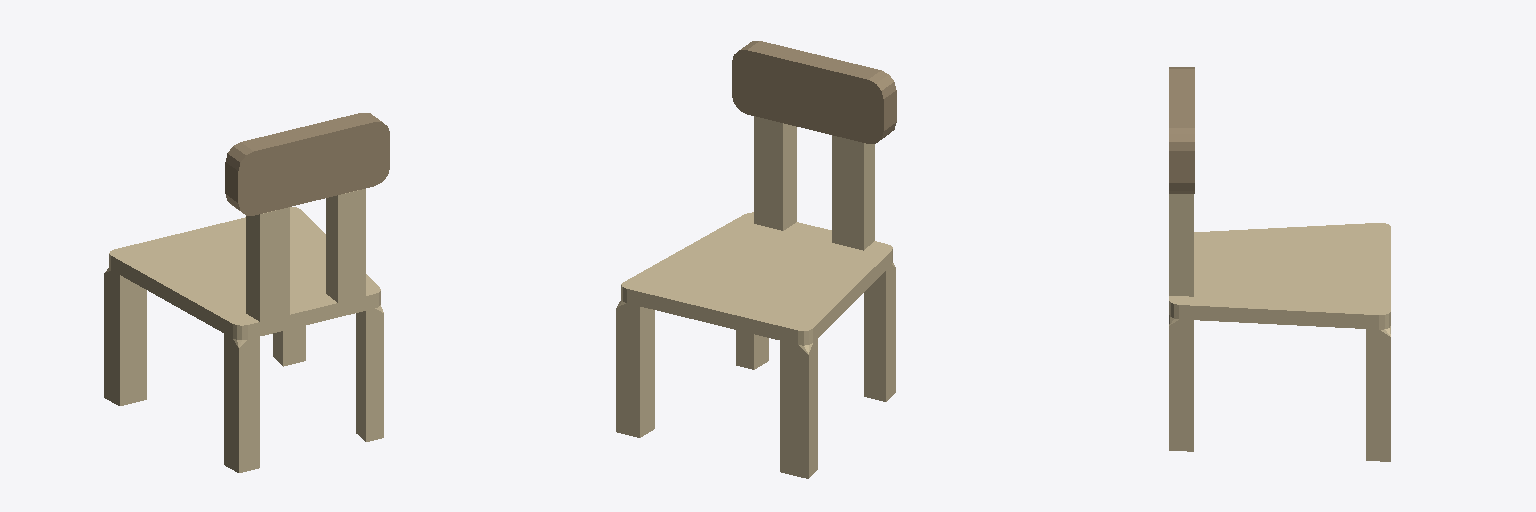
3 renders of one model, left to right at view 1: azimuth 30°, elevation 25°; view 2: azimuth 150°, elevation 25°; view 3: azimuth 270°, elevation 25°, orthographic.
Visible parts, largest first — view 1: pCube1, pCube2; view 2: pCube1, pCube2; view 3: pCube1, pCube2.
Part boxes in pixels (bbox=[...]): pCube1: bbox=[104, 189, 383, 472]; pCube2: bbox=[225, 113, 389, 215]; pCube1: bbox=[616, 116, 895, 478]; pCube2: bbox=[732, 41, 896, 143]; pCube1: bbox=[1169, 194, 1390, 461]; pCube2: bbox=[1169, 67, 1194, 193].
Bounding box in the file's own units: 0.6454 × 1.02 × 0.6459.
Materials: 2 (2 with a texture image).